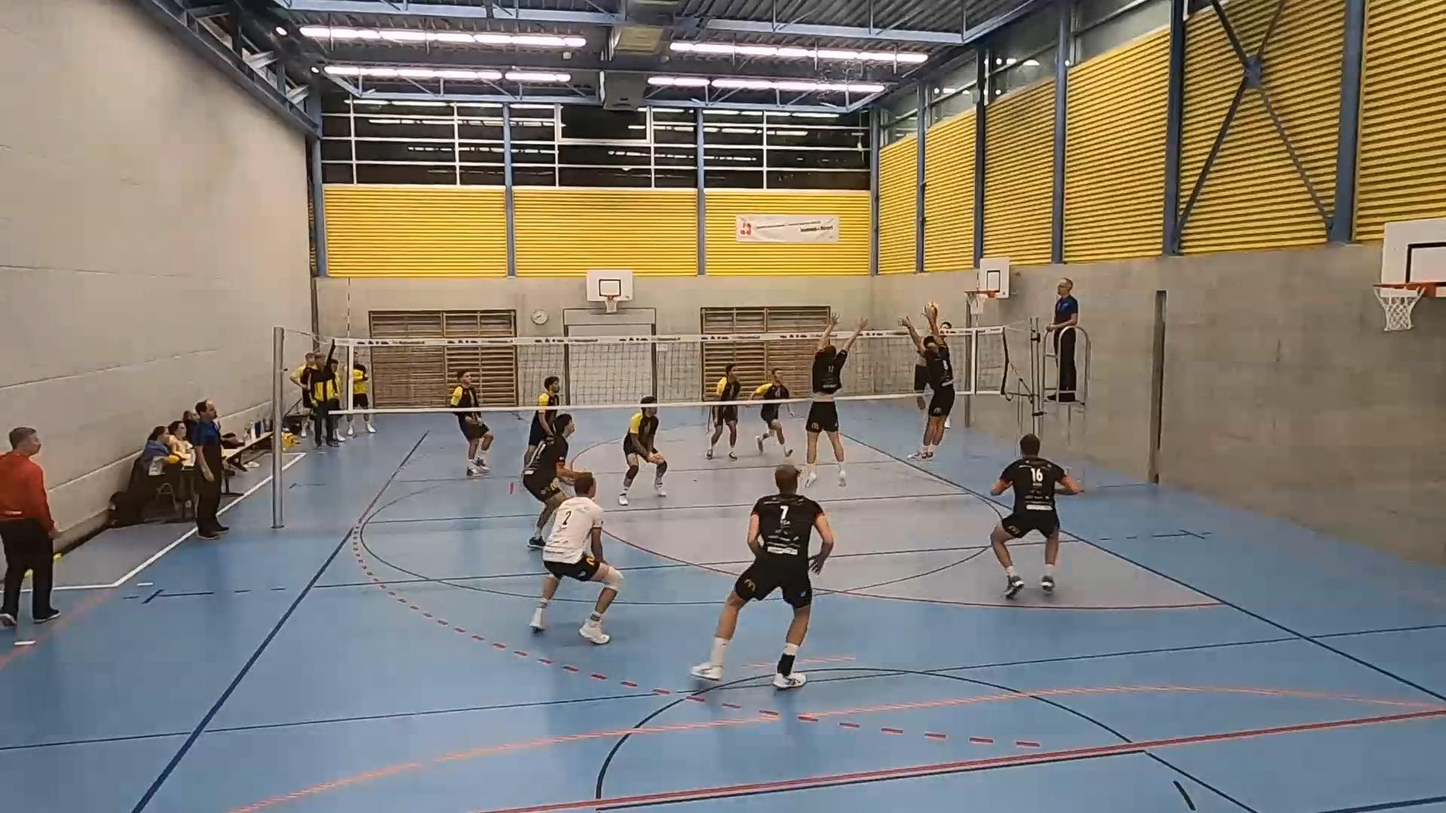attacco: (907, 318, 960, 432)
muro: (801, 316, 870, 485), (890, 305, 952, 462)
